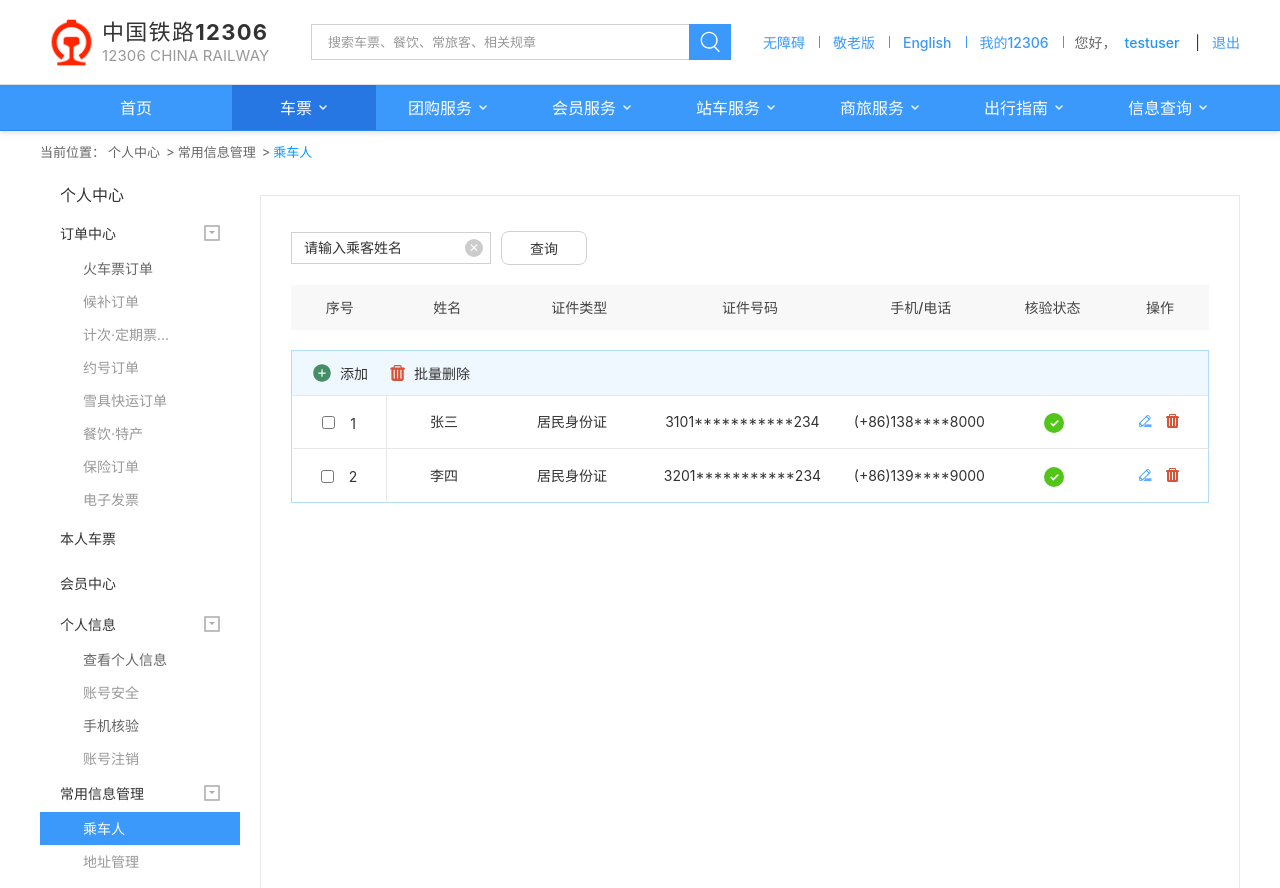
it: 乘客管理流程跨页测试 › [P0] 添加乘客流程 › 应该能够取消添加乘客
Click the button "添加" at (340, 372), box [312,362,368,382]
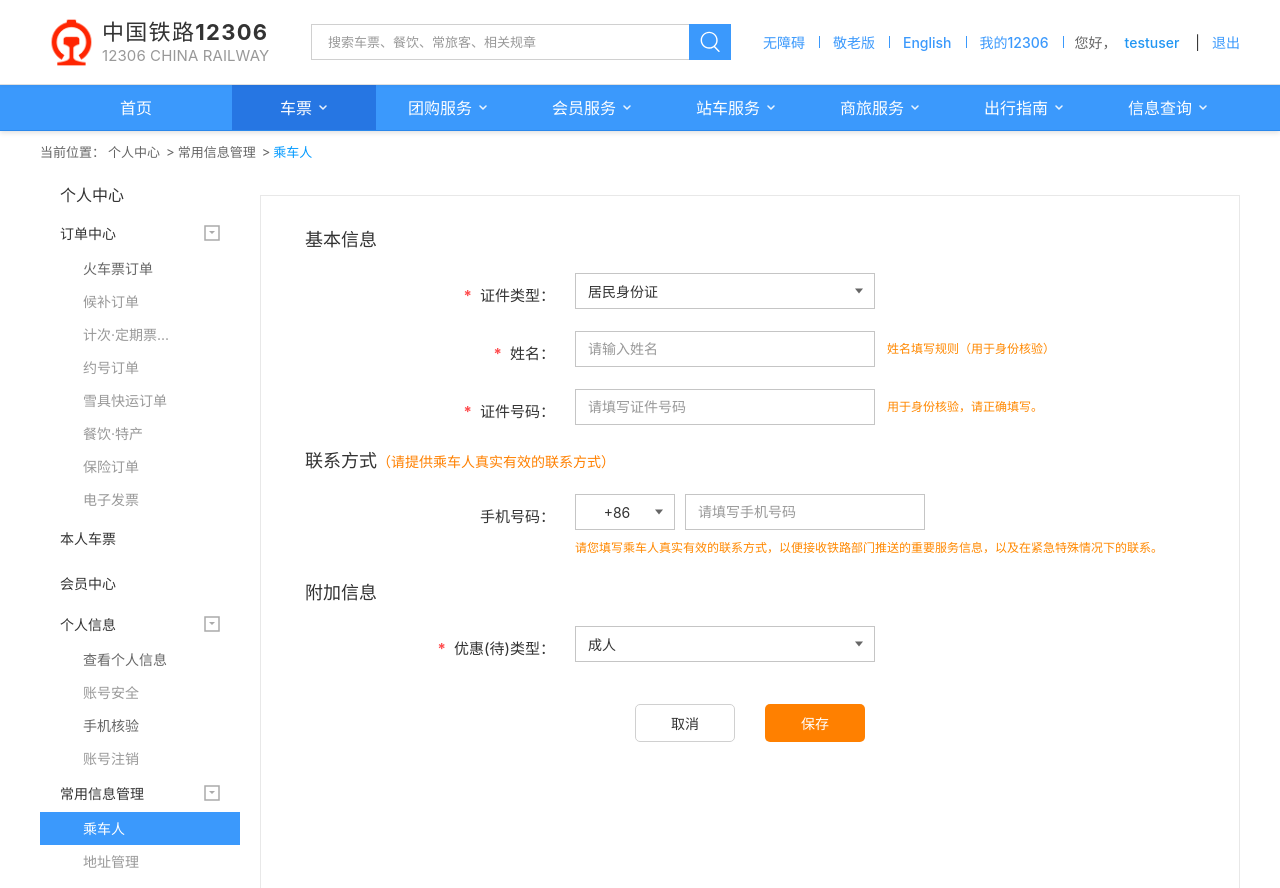
Expected: the element with class "add-passenger-panel" is shown, [261,196,1239,772]
Note:  点击取消按钮 
Click the button "取消" at (685, 723), box [635,704,735,742]
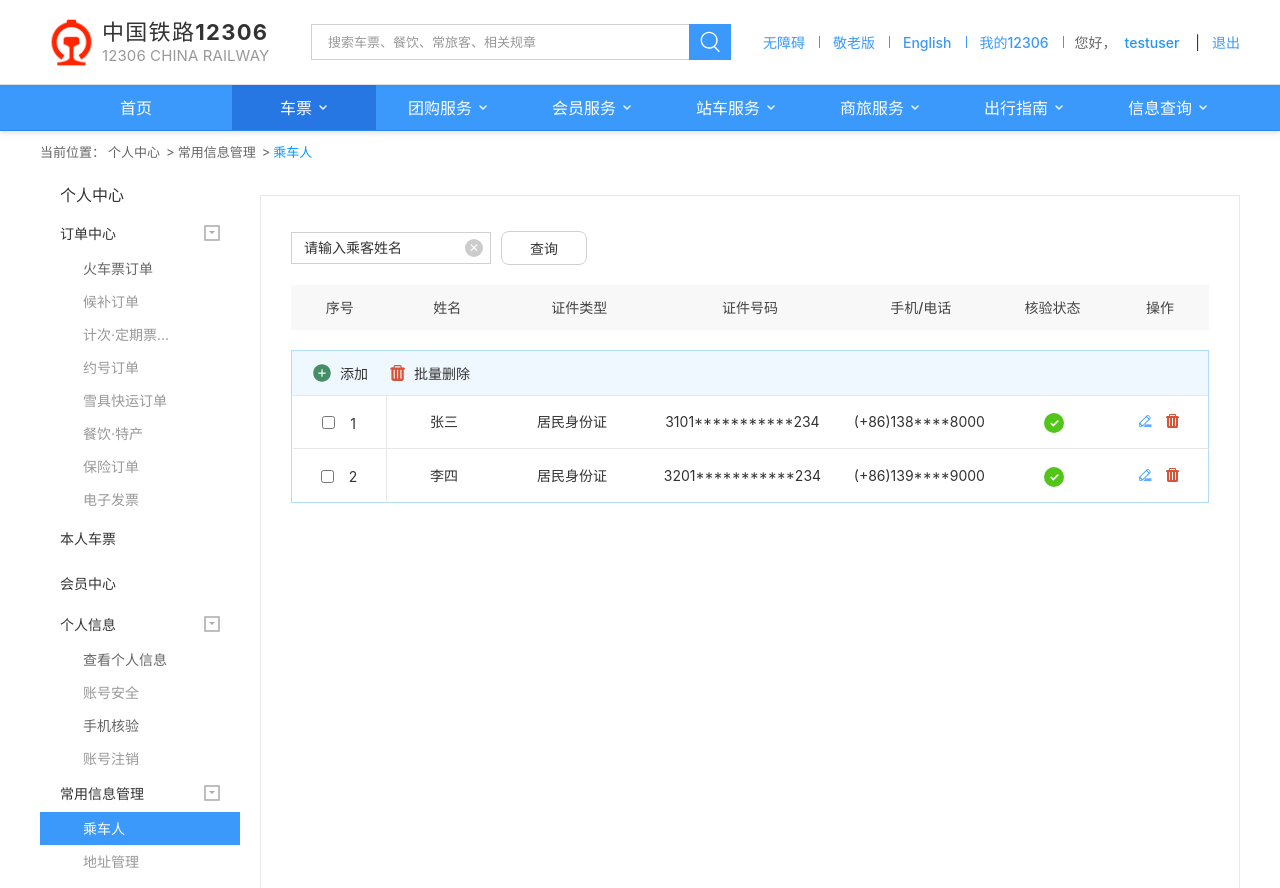
Expected: the element that starts with "证件类型" is shown, [291,210,1209,503]
Expected: the element with class "add-passenger-panel" is gone
